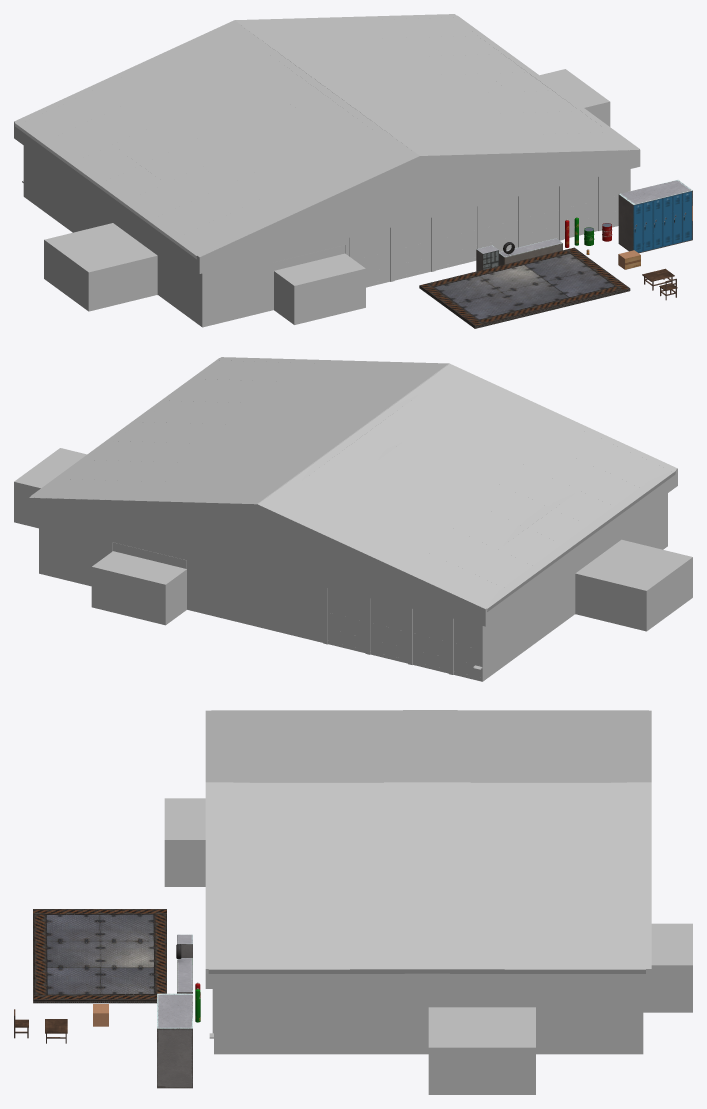
File: truck agrage.FBX
3 renders of one model, top to bottom at view 1: azimuth 30°, elevation 25°; view 2: azimuth 150°, elevation 25°; view 3: azimuth 270°, elevation 25°, orthographic. The views are drawn at different scales.
Visible parts, largest first — view 1: truck garage, stand, Box005, Box002, Box001; view 2: truck garage; view 3: truck garage, stand, Box005.
Part boxes in pixels (x1,y1,x2,y2): truck garage: [14, 14, 640, 327]; stand: [419, 247, 630, 328]; Box005: [618, 179, 692, 253]; Box002: [499, 238, 562, 265]; Box001: [476, 245, 498, 271]; truck garage: [14, 357, 692, 681]; truck garage: [164, 710, 692, 1094]; stand: [33, 909, 166, 1003]; Box005: [157, 993, 192, 1088].
Bounding box in the file's own units: 128663 × 28477 × 111256.
